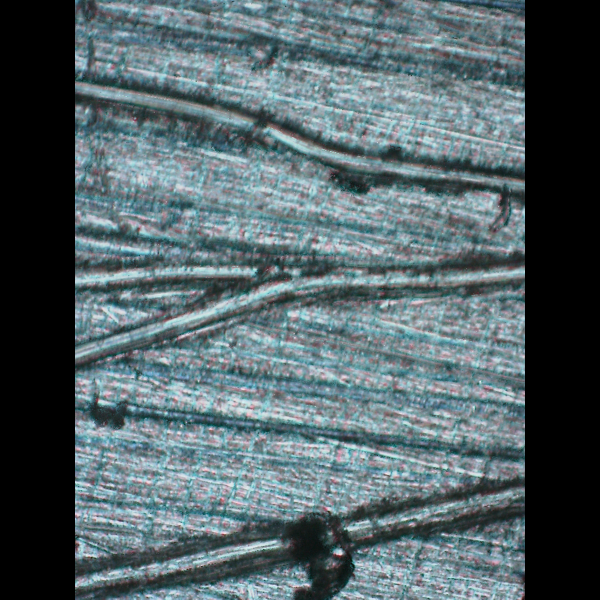d: (76, 224, 525, 377), (76, 67, 525, 209), (75, 474, 522, 600)
